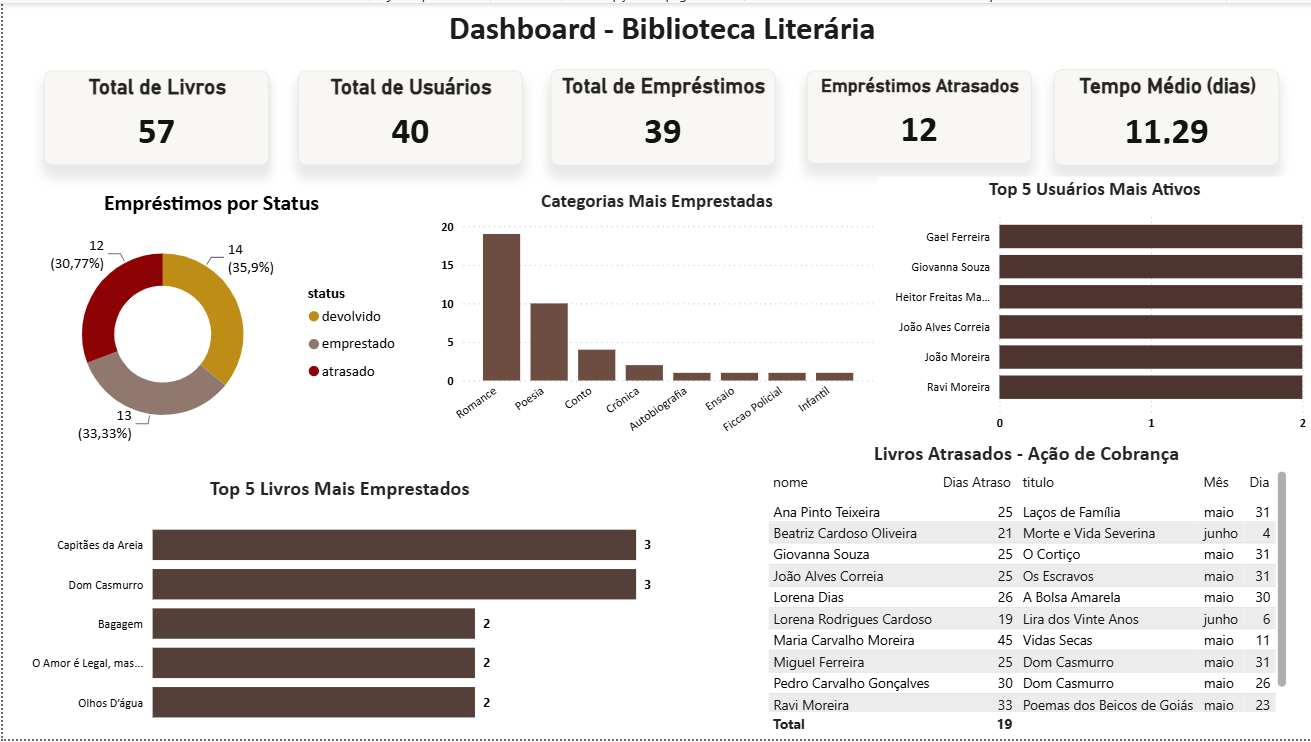

This screenshot's page, from the dashboard's own definition file:
{"tool":"powerbi","page":{"name":"Página 1","canvas":[1280,720],"ordinal":0},"visuals":[{"type":"textbox","box":[10,0,1270.3,53],"z":0},{"type":"cardVisual","title":"Total de Livros","fields":{"Data":["CountNonNull(public livros.id)"]},"box":[40,65.7,220,92.9],"z":1000},{"type":"cardVisual","title":"Total de Usuários","fields":{"Data":["CountNonNull(public usuarios.id)"]},"box":[288.6,65.7,220,92.9],"z":2000},{"type":"cardVisual","title":"Total de Empréstimos","fields":{"Data":["CountNonNull(public emprestimos.id)"]},"box":[535.7,64.3,220,94.3],"z":3000},{"type":"cardVisual","title":"Empréstimos Atrasados","fields":{"Data":["CountNonNull(public emprestimos.id)"]},"box":[785.7,65.7,220,91.4],"z":4000},{"type":"cardVisual","title":"Tempo Médio (dias)","fields":{"Data":["public emprestimos.Media Dias"]},"box":[1028.6,64.3,220,94.3],"z":5000},{"type":"donutChart","title":"Empréstimos por Status","fields":{"Category":["public emprestimos.status"],"Y":["CountNonNull(public emprestimos.id)"]},"box":[10,181.7,388.3,258.3],"z":6000},{"type":"clusteredBarChart","title":"Top 5 Livros Mais Emprestados","fields":{"Category":["public livros.titulo"],"Y":["CountNonNull(public emprestimos.id)"]},"box":[20,461.7,620,258.3],"z":7000},{"type":"clusteredColumnChart","title":"Categorias Mais Emprestadas","fields":{"Category":["public categorias.nome_categoria"],"Y":["CountNonNull(public emprestimos.id)"]},"box":[423.3,181.7,433.3,258.3],"z":8000},{"type":"clusteredBarChart","title":"Top 5 Usuários Mais Ativos","fields":{"Category":["public usuarios.nome"],"Y":["CountNonNull(public emprestimos.id)"]},"box":[856,170,424.3,258],"z":9000},{"type":"tableEx","title":"Livros Atrasados - Ação de Cobrança","fields":{"Values":["public usuarios.nome","public emprestimos.Dias Atraso","public livros.titulo","public emprestimos.data_emprestimo.Variation.Hierarquia de datas.Mês","public emprestimos.data_emprestimo.Variation.Hierarquia de datas.Dia"]},"box":[741.7,428.3,518.3,291.7],"z":10000}]}

Visuals, with their boxes in screenshot pixels (x1, y1, x2, y2), scaled from the page's 1280x720 canvas onto the 1311x742 screenshot:
textbox: bbox=[10, 0, 1310, 55]
"Total de Livros" cardVisual: bbox=[41, 68, 266, 163]
"Total de Usuários" cardVisual: bbox=[296, 68, 521, 163]
"Total de Empréstimos" cardVisual: bbox=[549, 66, 774, 163]
"Empréstimos Atrasados" cardVisual: bbox=[805, 68, 1030, 162]
"Tempo Médio (dias)" cardVisual: bbox=[1054, 66, 1279, 163]
"Empréstimos por Status" donutChart: bbox=[10, 187, 408, 453]
"Top 5 Livros Mais Emprestados" clusteredBarChart: bbox=[20, 476, 656, 741]
"Categorias Mais Emprestadas" clusteredColumnChart: bbox=[434, 187, 877, 453]
"Top 5 Usuários Mais Ativos" clusteredBarChart: bbox=[877, 175, 1310, 441]
"Livros Atrasados - Ação de Cobrança" tableEx: bbox=[760, 441, 1291, 741]
